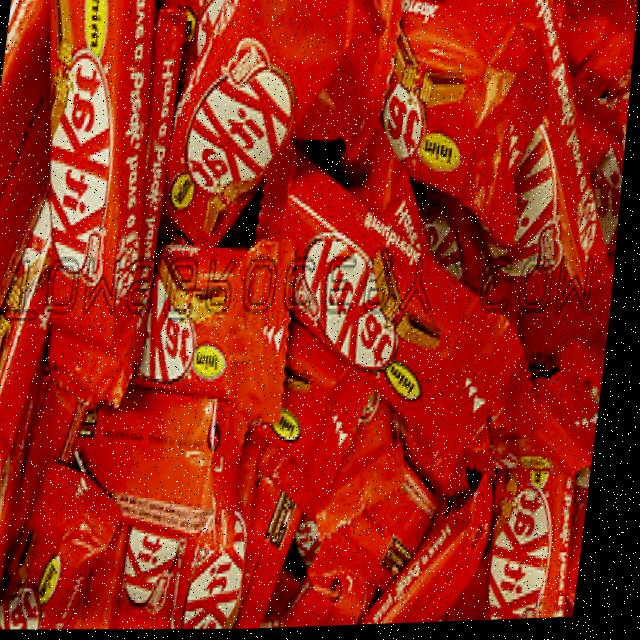kitkat: (224, 142, 561, 481), (16, 0, 179, 379), (154, 0, 385, 256), (496, 451, 590, 624)
